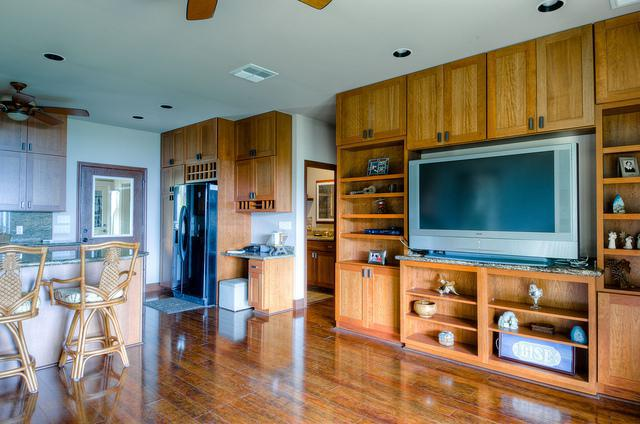tv: (396, 138, 599, 264)
